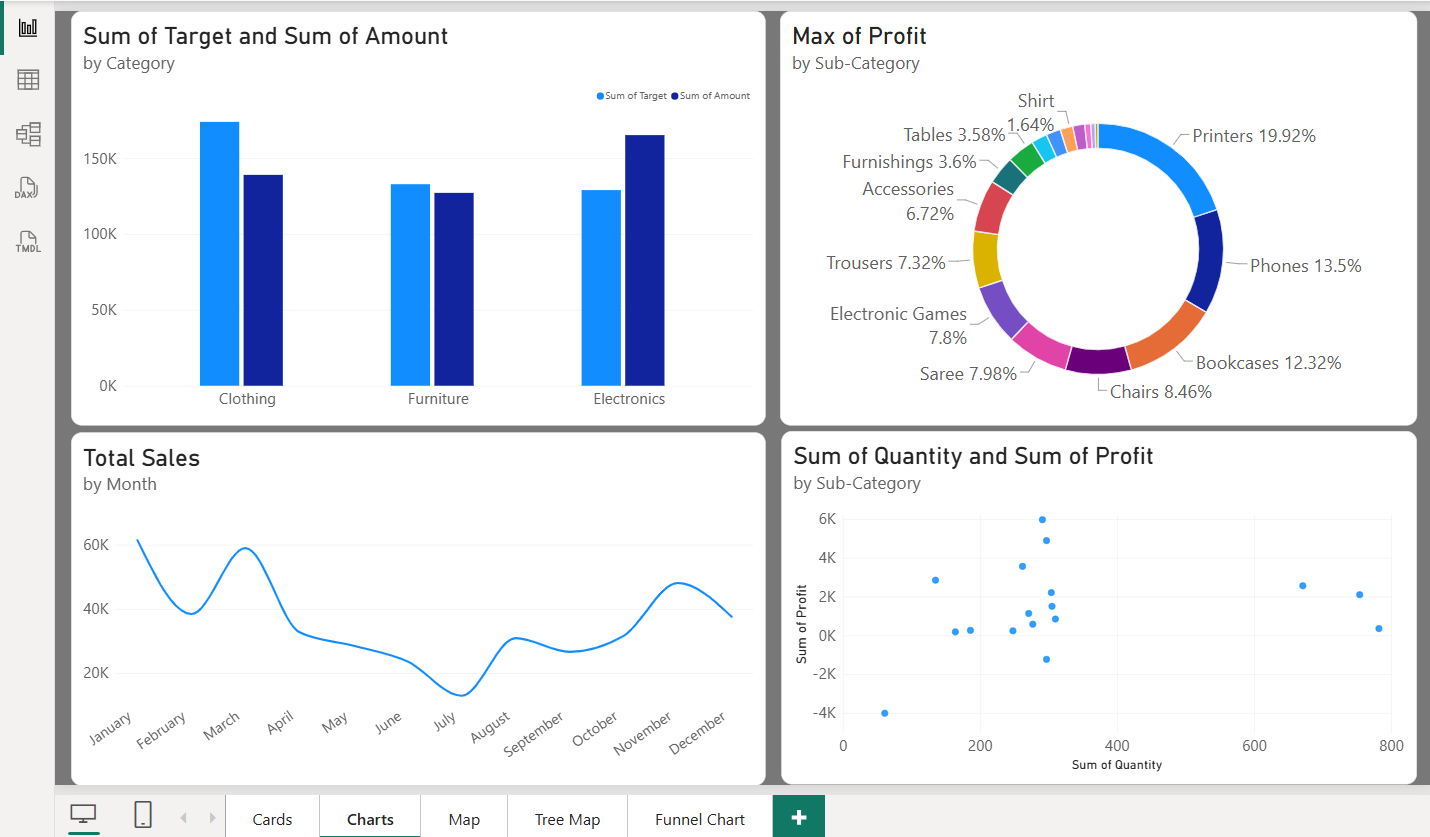

This screenshot's page, from the dashboard's own definition file:
{"tool":"powerbi","page":{"name":"Charts","canvas":[1920,1080],"ordinal":1},"visuals":[{"type":"clusteredColumnChart","fields":{"Category":["Order Details.Category"],"Y":["Sum(Sales target.Target)","Sum(Order Details.Amount)"]},"box":[23,0,970.1,578.4],"z":0},{"type":"donutChart","fields":{"Category":["Order Details.Sub-Category"],"Y":["Max(Order Details.Profit)"]},"box":[1011.5,0,889.4,578.4],"z":1000},{"type":"lineChart","fields":{"Category":["Date Table.Date.Variation.Date Hierarchy.Month"],"Y":["Order Details.Total Sales"]},"box":[23,587.6,970.1,493.1],"z":2000},{"type":"scatterChart","fields":{"Category":["Order Details.Sub-Category"],"X":["Sum(Order Details.Quantity)"],"Y":["Sum(Order Details.Profit)"]},"box":[1013.8,586.9,887.1,493.1],"z":3000}]}

Visuals, with their boxes on the page's 1920x1080 design canvas (x1, y1, x2, y2). These are canvas units, not pixel positions in the 1430x837 screenshot, which may show the page scaled, cropped or inside an application window:
clusteredColumnChart - Order Details.Category x Sum(Sales target.Target): rect(23, 0, 993, 578)
donutChart - Order Details.Sub-Category x Max(Order Details.Profit): rect(1012, 0, 1901, 578)
lineChart - Date Table.Date.Variation.Date Hierarchy.Month x Order Details.Total Sales: rect(23, 588, 993, 1081)
scatterChart - Order Details.Sub-Category x Sum(Order Details.Quantity): rect(1014, 587, 1901, 1080)
